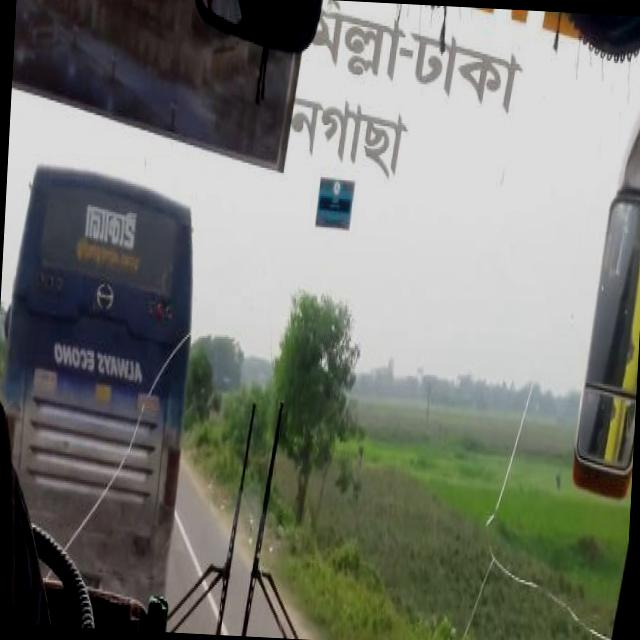bus: (3, 168, 196, 593)
